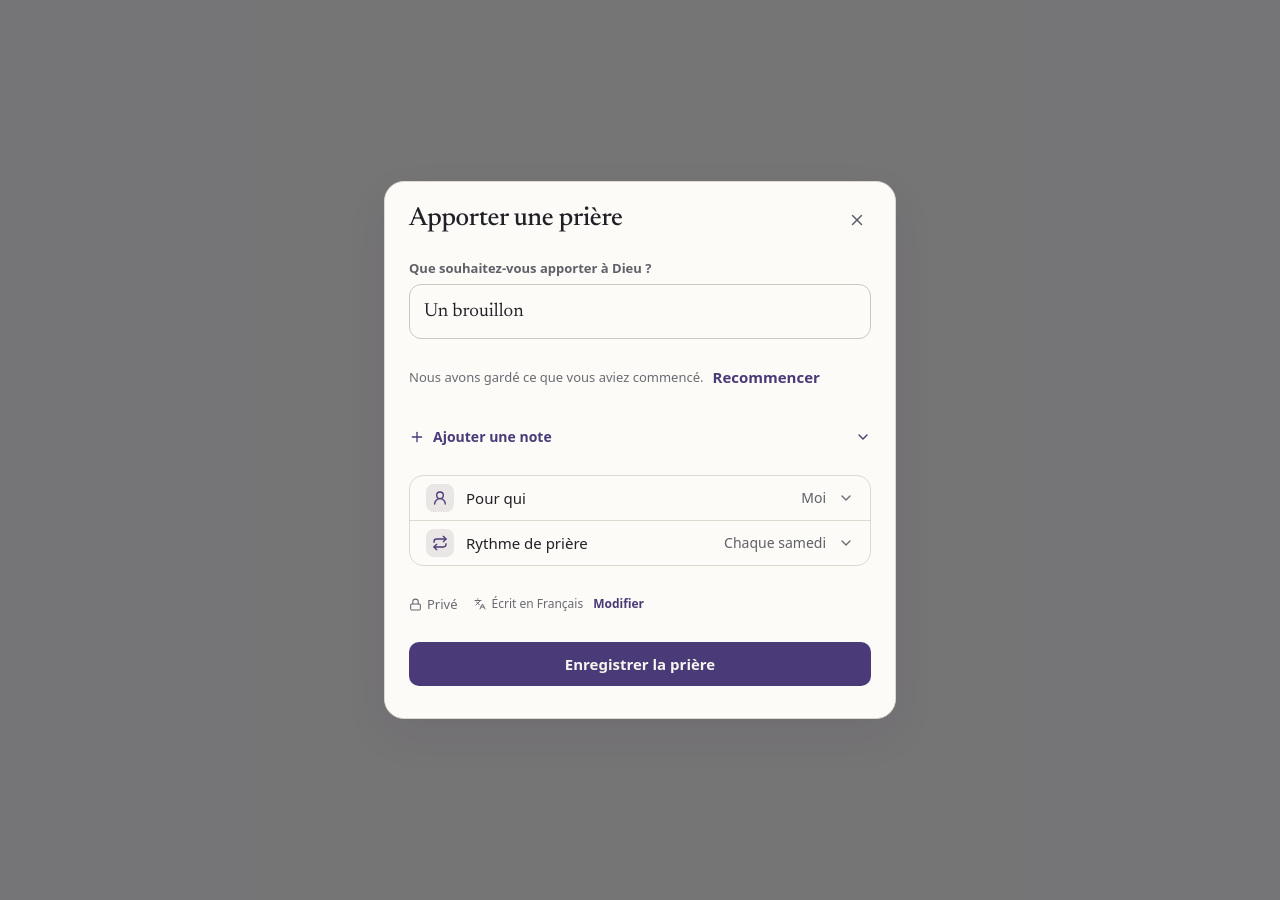
Test: PrayerForm — an unfinished prayer is not lost › offers one way to start over, which really empties the form
expect the text "Nous avons gardé ce que vous aviez commencé." is shown: met, box [409, 368, 704, 386]
Click the button "Recommencer": (766, 377) [700, 355, 833, 399]
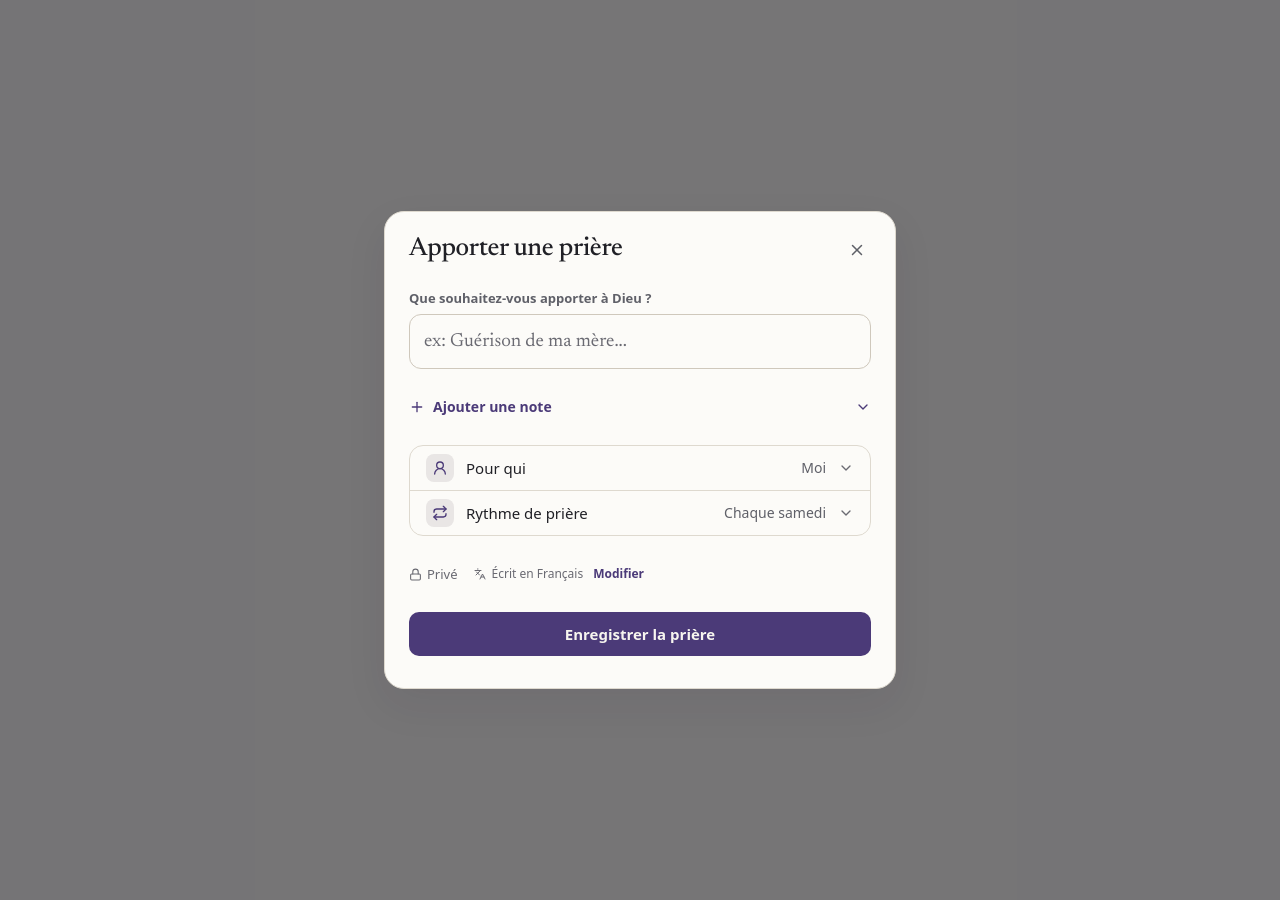
expect the field labelled "Que souhaitez-vous apporter à Dieu ?" is empty: met, box [409, 314, 871, 369]
expect the text "Nous avons gardé ce que vous aviez commencé." is gone: met
